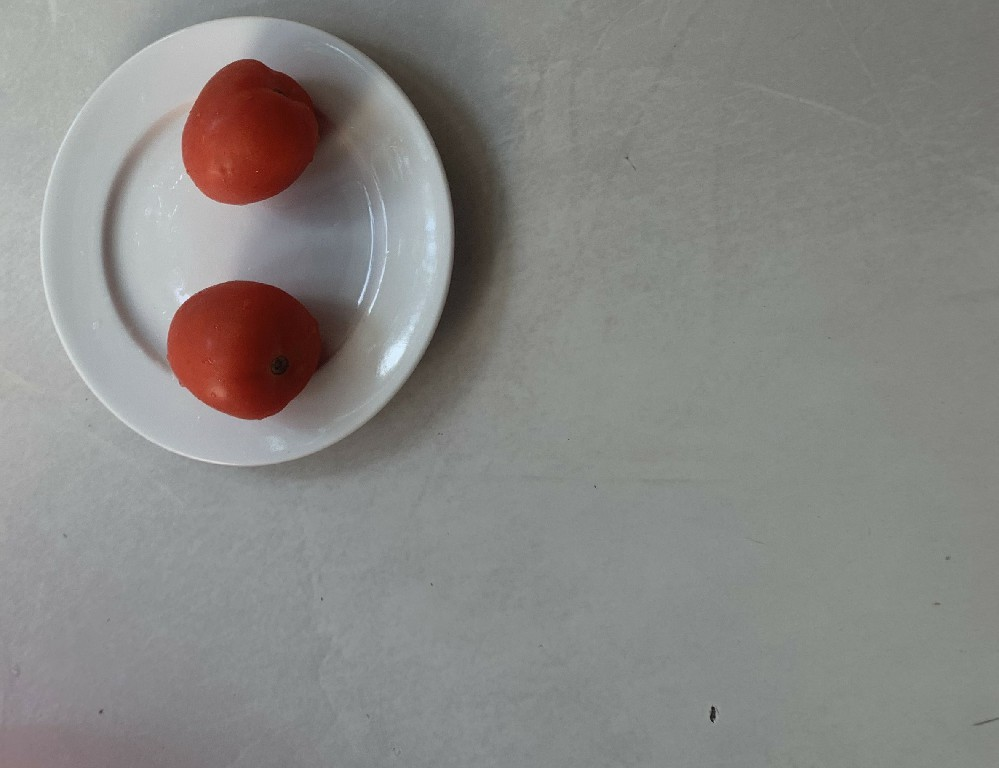OK: (175, 52, 327, 213), (163, 275, 324, 425)
